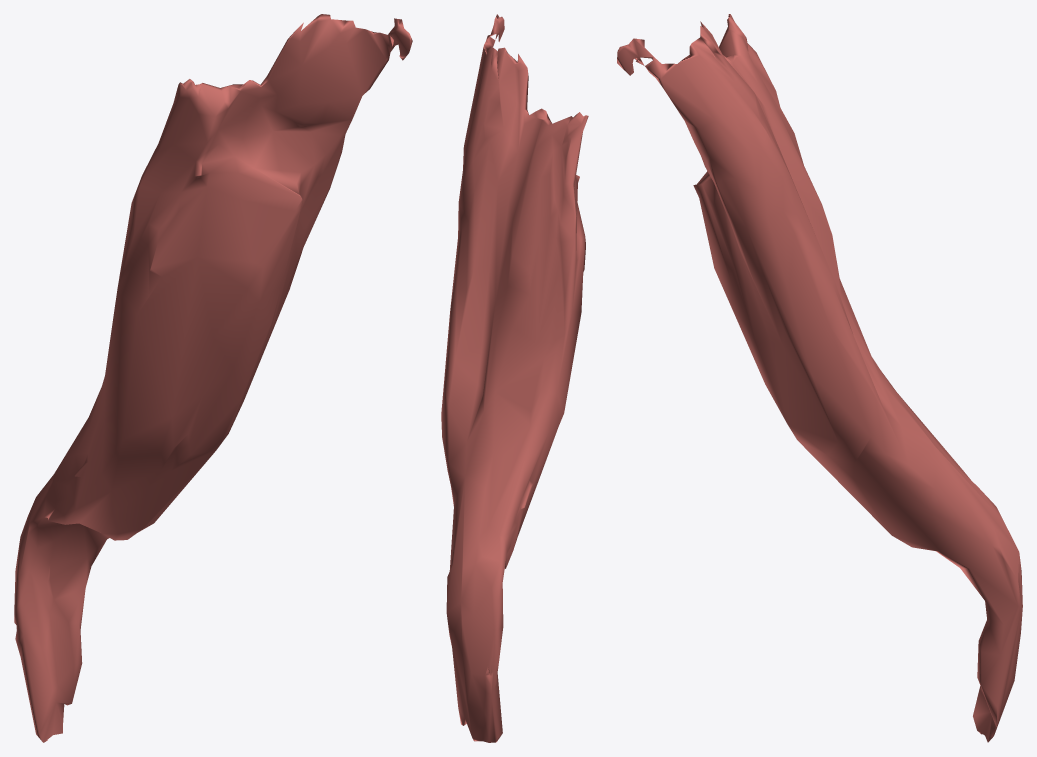
The picture shows the model from 3 angles, left to right: view 1: azimuth 30°, elevation 25°; view 2: azimuth 150°, elevation 25°; view 3: azimuth 270°, elevation 25°; orthographic projection. The views are drawn at different scales.
Parts seen in each view (by area): view 1: 右侧踇短屈肌外侧头; view 2: 右侧踇短屈肌外侧头; view 3: 右侧踇短屈肌外侧头.
Boxes of the visible parts, left/top/right/bottom form: 右侧踇短屈肌外侧头: left=14, top=14, right=412, bottom=742; 右侧踇短屈肌外侧头: left=441, top=14, right=588, bottom=742; 右侧踇短屈肌外侧头: left=617, top=14, right=1022, bottom=742.
Size of the model in its own units: 0.0308 by 0.1198 by 0.0567.
